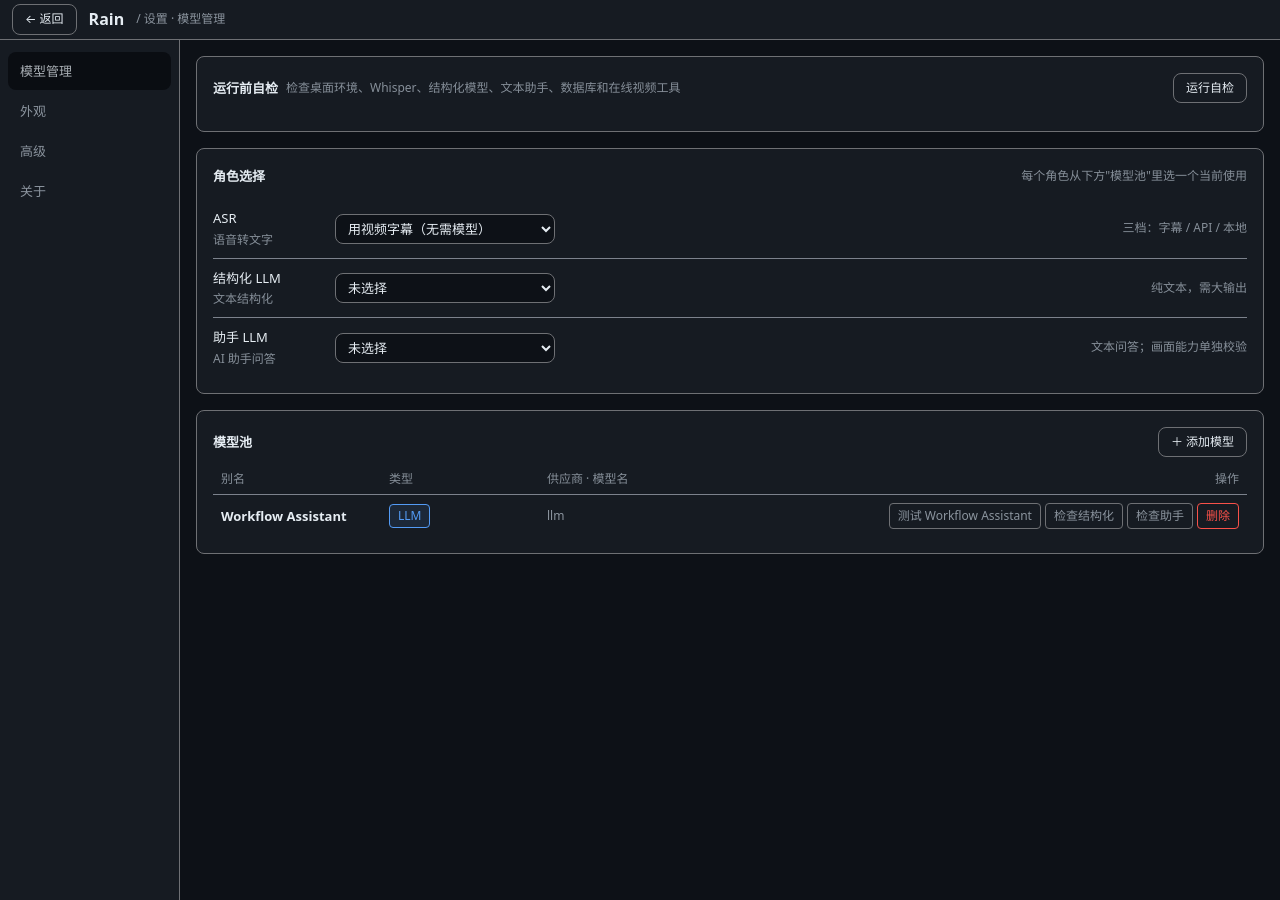
Test: AC-LV-12 settings assistant capability workflow › persists a passing text-stream check and unlocks the assistant role option
The width and height of the screenshot is (1280, 900).
Click the button "检查助手" at [1160, 516], box x1=1127 y1=503 x2=1193 y2=529
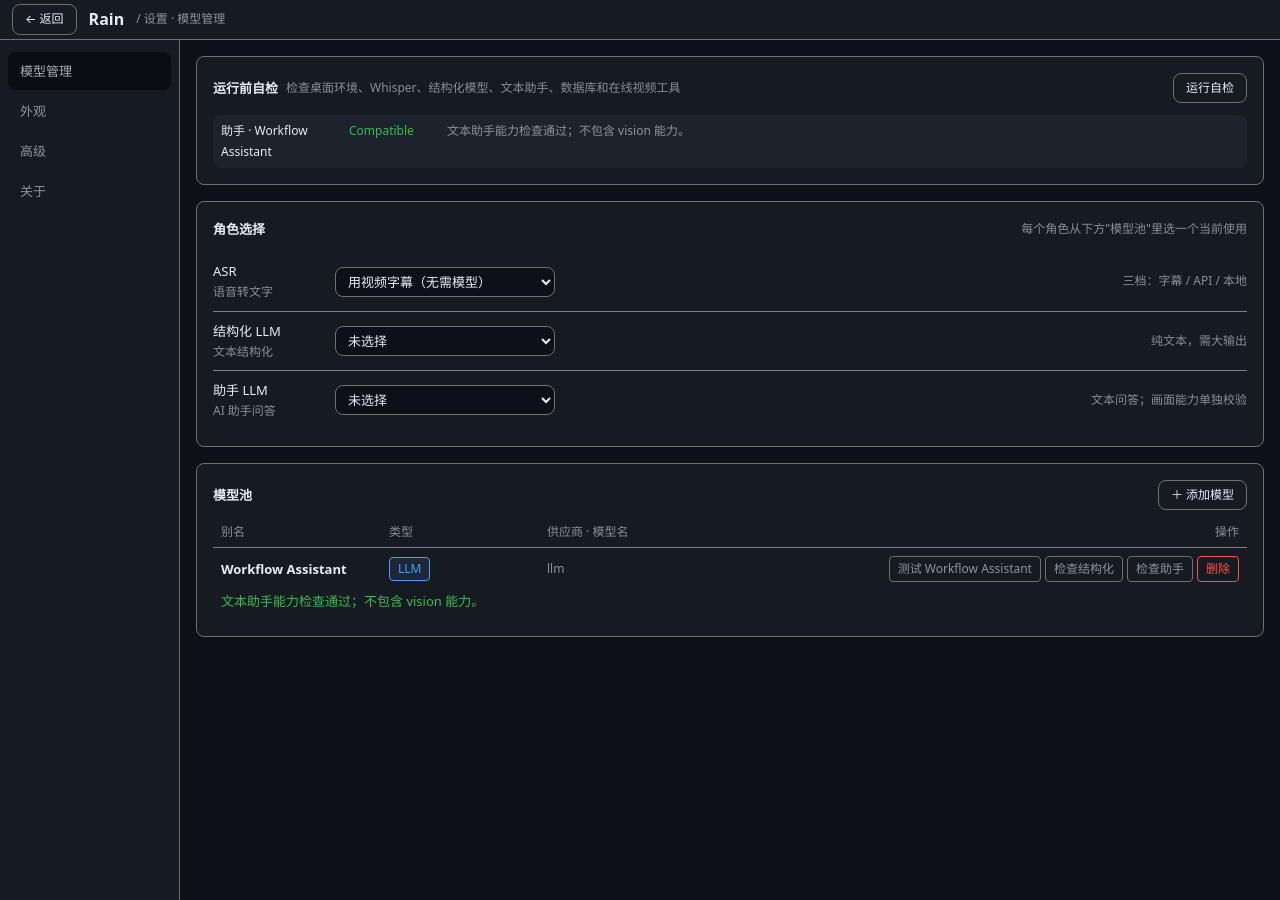
Result: the message shows "不包含 vision 能力" at x1=221 y1=592 x2=484 y2=610
